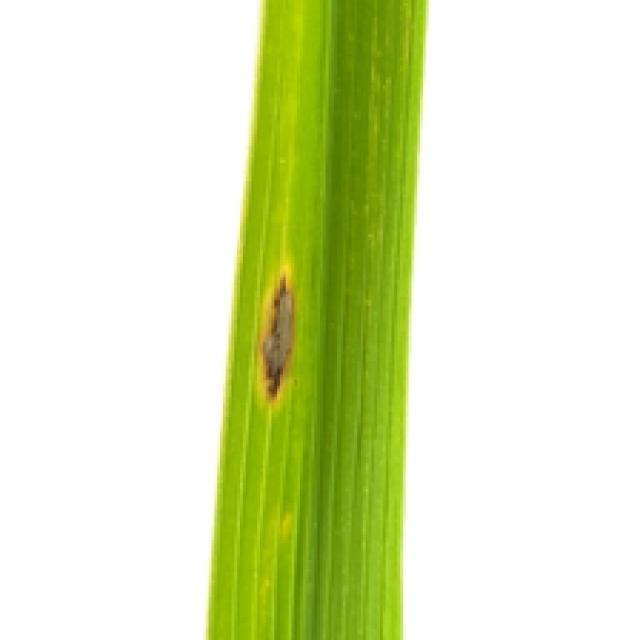Rice___Rice_Blast: (204, 0, 430, 637)
